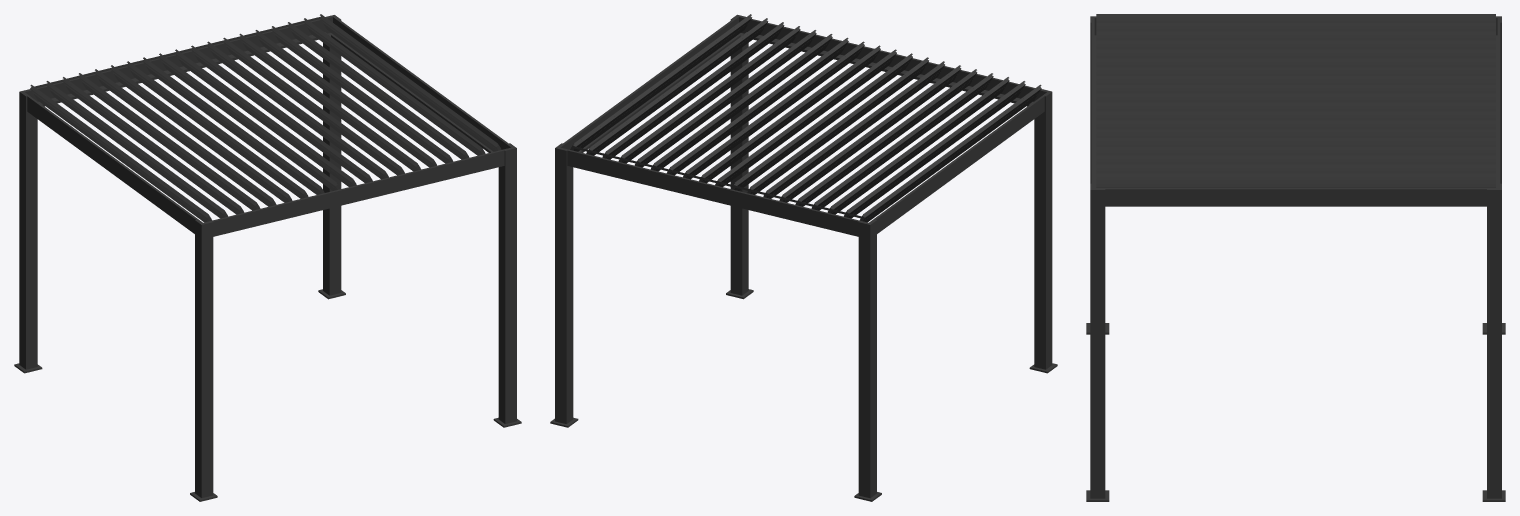
The model's file is patiomove_3-3_60_strandblack.fbx.
The picture shows the model from 3 angles, left to right: view 1: azimuth 30°, elevation 25°; view 2: azimuth 150°, elevation 25°; view 3: azimuth 270°, elevation 25°; orthographic projection. The views are drawn at different scales.
Parts seen in each view (by area): view 1: patiomove_3-3_60_black; view 2: patiomove_3-3_60_black; view 3: patiomove_3-3_60_black.
Part boxes in pixels (x1,y1,x2,y2): patiomove_3-3_60_black: [14, 14, 521, 501]; patiomove_3-3_60_black: [550, 14, 1057, 501]; patiomove_3-3_60_black: [1086, 14, 1505, 501].
Size of the model in its own units: 307 by 257 by 307.
Materials: 1 (1 with a texture image).
